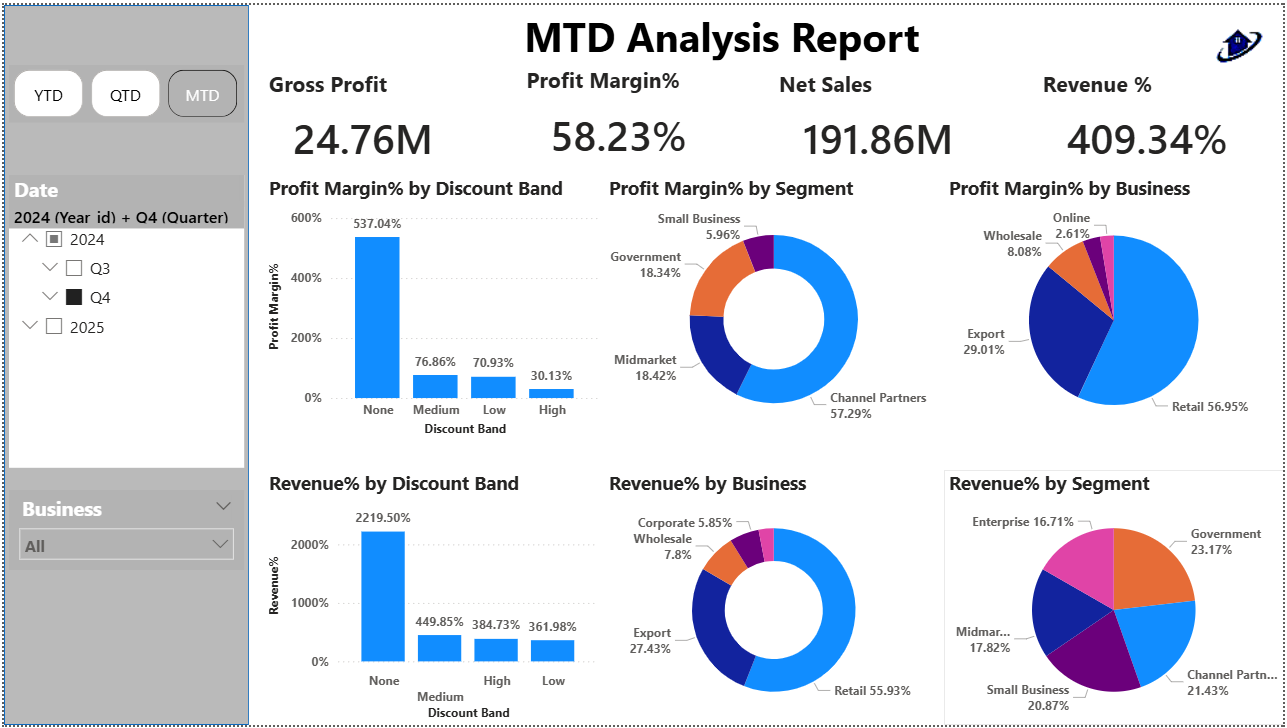

What the dashboard file says about the page in this screenshot:
{"tool":"powerbi","page":{"name":"MTD","canvas":[1280,720],"ordinal":5},"visuals":[{"type":"shape","box":[0,0,245,720],"z":0},{"type":"advancedSlicerVisual","fields":{"Values":["Time.Slicer"]},"box":[5,60,235,57.5],"z":1000},{"type":"slicer","title":"Date","fields":{"Values":["Dim_Date.Year_id","Dim_Date.Quarter","Dim_Date.Month_Name"]},"box":[5,170,235,292.5],"z":1000,"group":"g1"},{"type":"actionButton","box":[317.9,0,100.3,40.4],"z":2000},{"type":"slicer","fields":{"Values":["Fact-Finance.Business"]},"box":[5,485,235,80],"z":3000},{"type":"shape","box":[253.1,0,928.1,59.9],"z":4000},{"type":"group","id":"g1","title":"Group 1","box":[5,170,235,292.5],"z":5000},{"type":"cardVisual","title":"Gross Profit","fields":{"Data":["Measures(1).Dynamic_GrossProfit"]},"box":[260,63.8,246.2,106.2],"z":6000},{"type":"cardVisual","title":"Profit Margin%","fields":{"Data":["Measures(1).Profit Margin%"]},"box":[517.5,60,245,106.2],"z":7000},{"type":"cardVisual","fields":{"Data":["Measures(1).Selected Date Header"]},"box":[5,196.2,235,27.5],"z":7001,"group":"g1"},{"type":"cardVisual","title":"Net Sales","fields":{"Data":["Measures(1).Selected Net Sales"]},"box":[770,63.8,246.2,106.2],"z":8000},{"type":"cardVisual","title":"Revenue %","fields":{"Data":["Measures(1).Revenue%"]},"box":[1033.8,63.8,246.2,106.2],"z":9000},{"type":"columnChart","fields":{"Category":["Fact-Finance.Discount Band"],"Y":["Measures(1).Profit Margin%"]},"box":[260,170,340,266.2],"z":10000},{"type":"donutChart","fields":{"Category":["Fact-Finance.Segment"],"Y":["Measures(1).Profit Margin%"]},"box":[600,170,340,263.8],"z":11000},{"type":"pieChart","fields":{"Y":["Measures(1).Profit Margin%"],"Category":["Fact-Finance.Business"]},"box":[940,170,340,266.2],"z":12000},{"type":"columnChart","fields":{"Category":["Fact-Finance.Discount Band"],"Y":["Measures(1).Revenue%"]},"box":[260.5,464.7,339.9,255.6],"z":13000},{"type":"pieChart","fields":{"Category":["Fact-Finance.Segment"],"Y":["Measures(1).Revenue%"]},"box":[940.4,464.7,339.9,255.6],"z":14000},{"type":"donutChart","fields":{"Category":["Fact-Finance.Business"],"Y":["Measures(1).Revenue%"]},"box":[600.4,464.7,339.9,255.6],"z":15000},{"type":"image","box":[1208.8,11.2,55,48.8],"z":16000}]}

Visuals, with their boxes in screenshot pixels (x1, y1, x2, y2), scaled from the page's 1280x720 canvas onto the 1287x728 screenshot:
shape: detection(0, 0, 246, 727)
advancedSlicerVisual - Time.Slicer: detection(5, 61, 241, 119)
"Date" slicer: detection(5, 172, 241, 468)
actionButton: detection(320, 0, 420, 41)
slicer - Fact-Finance.Business: detection(5, 490, 241, 571)
shape: detection(254, 0, 1188, 61)
"Group 1" group: detection(5, 172, 241, 468)
"Gross Profit" cardVisual: detection(261, 65, 509, 172)
"Profit Margin%" cardVisual: detection(520, 61, 767, 168)
cardVisual - Measures(1).Selected Date Header: detection(5, 198, 241, 226)
"Net Sales" cardVisual: detection(774, 65, 1022, 172)
"Revenue %" cardVisual: detection(1039, 65, 1286, 172)
columnChart - Fact-Finance.Discount Band x Measures(1).Profit Margin%: detection(261, 172, 603, 441)
donutChart - Fact-Finance.Segment x Measures(1).Profit Margin%: detection(603, 172, 945, 439)
pieChart - Measures(1).Profit Margin% x Fact-Finance.Business: detection(945, 172, 1286, 441)
columnChart - Fact-Finance.Discount Band x Measures(1).Revenue%: detection(262, 470, 604, 727)
pieChart - Fact-Finance.Segment x Measures(1).Revenue%: detection(946, 470, 1286, 727)
donutChart - Fact-Finance.Business x Measures(1).Revenue%: detection(604, 470, 945, 727)
image: detection(1215, 11, 1271, 61)
